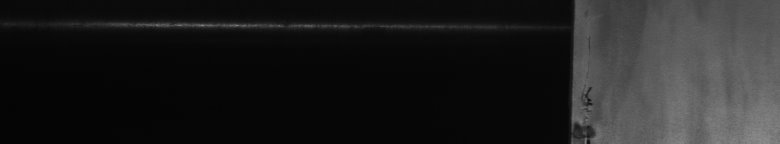hb: (584, 37, 604, 136)
